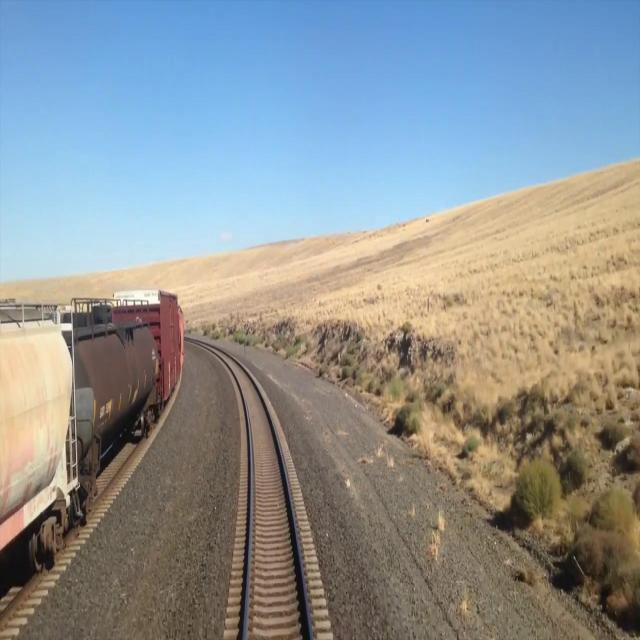rail-track: (225, 356, 309, 639)
